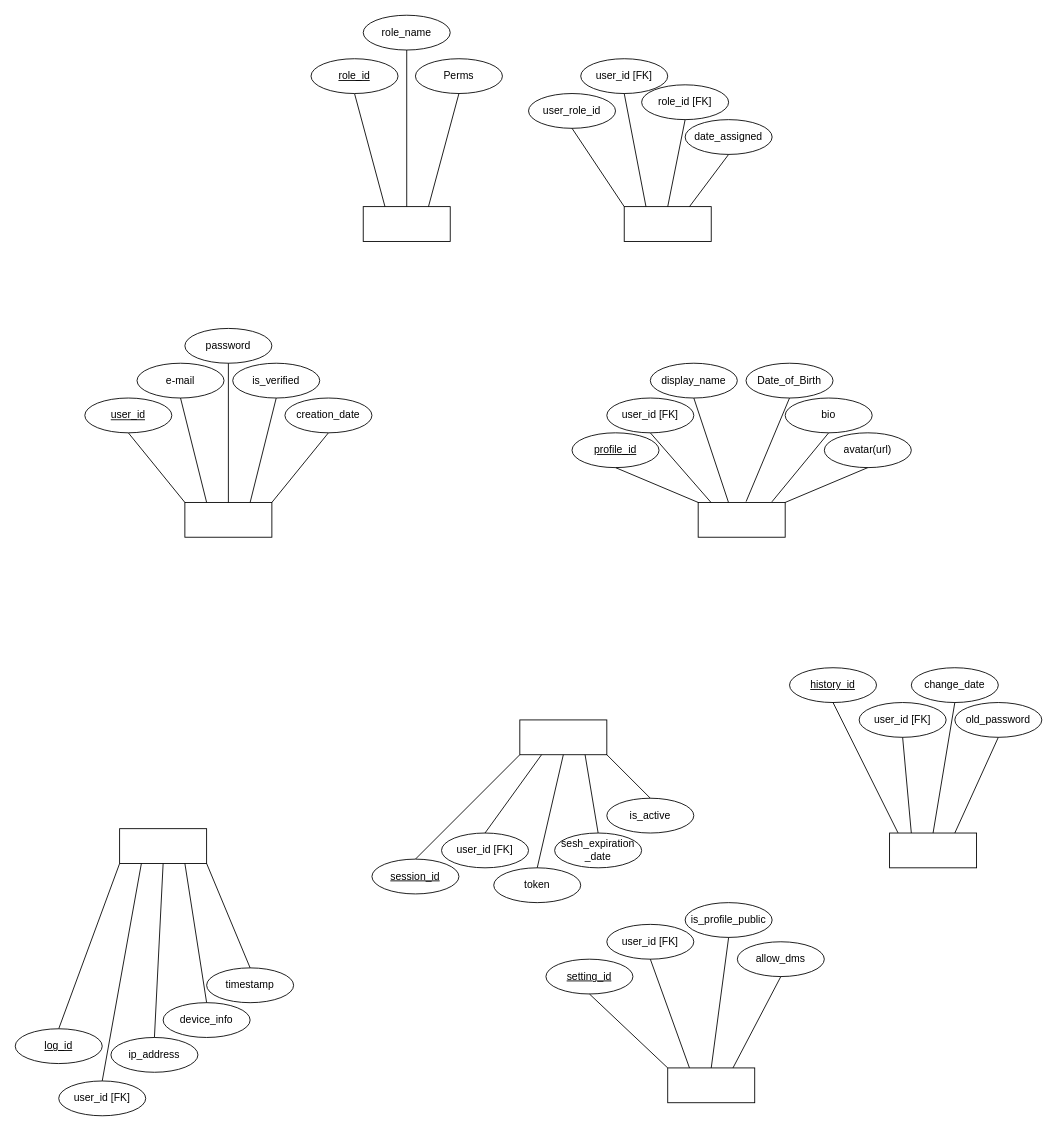
Some shapes in this 1057 by 1131 pixel diagram are drawn without their labels. The shapes that lost their labels are listed below. From the top down, each one's box as (x1, y1, x2, y2) in pixels, then its label:
(362, 206, 450, 241): Role
(623, 206, 711, 241): User_Roles
(184, 502, 272, 537): User
(697, 502, 785, 537): User_Profiles
(519, 719, 607, 755): Sessions
(119, 828, 207, 863): Login_Logs
(889, 832, 977, 868): Password_History
(667, 1067, 755, 1103): Privacy_Settings
